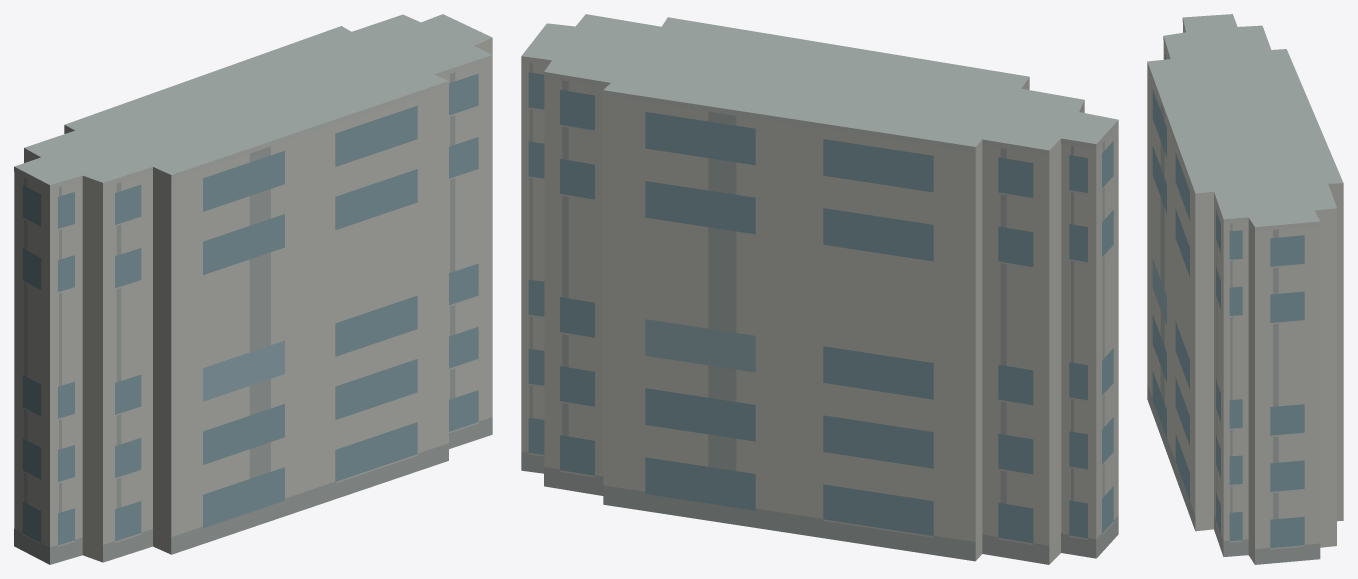
The model's file is survey-upis-32973871.glb.
3 renders of one model, left to right at view 1: azimuth 30°, elevation 25°; view 2: azimuth 150°, elevation 25°; view 3: azimuth 270°, elevation 25°, orthographic. The views are drawn at different scales.
Parts seen in each view (by area): view 1: survey-upis-32973871.tmp; view 2: survey-upis-32973871.tmp; view 3: survey-upis-32973871.tmp.
Part boxes in pixels (left/top/right/bottom): survey-upis-32973871.tmp: left=14, top=14, right=492, bottom=564; survey-upis-32973871.tmp: left=521, top=14, right=1118, bottom=564; survey-upis-32973871.tmp: left=1147, top=14, right=1343, bottom=564.
Bounding box in the file's own units: 24.78 × 18.3 × 9.65.
